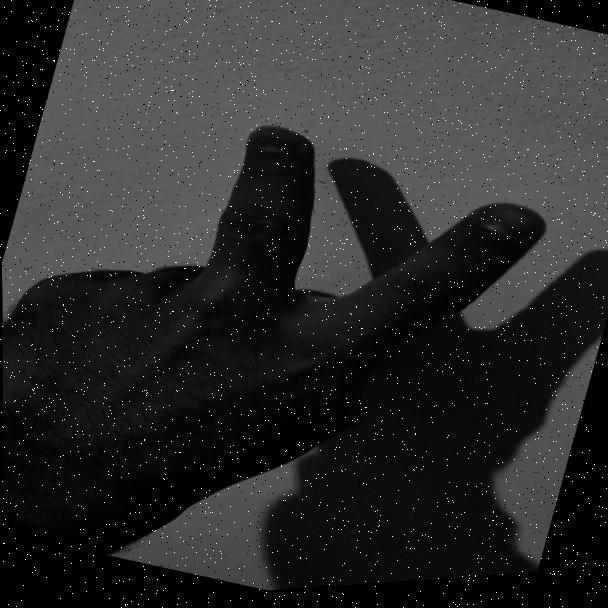two: (0, 48, 560, 535)
